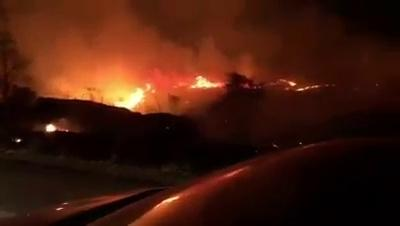fire: (115, 86, 146, 110), (186, 75, 220, 88)
